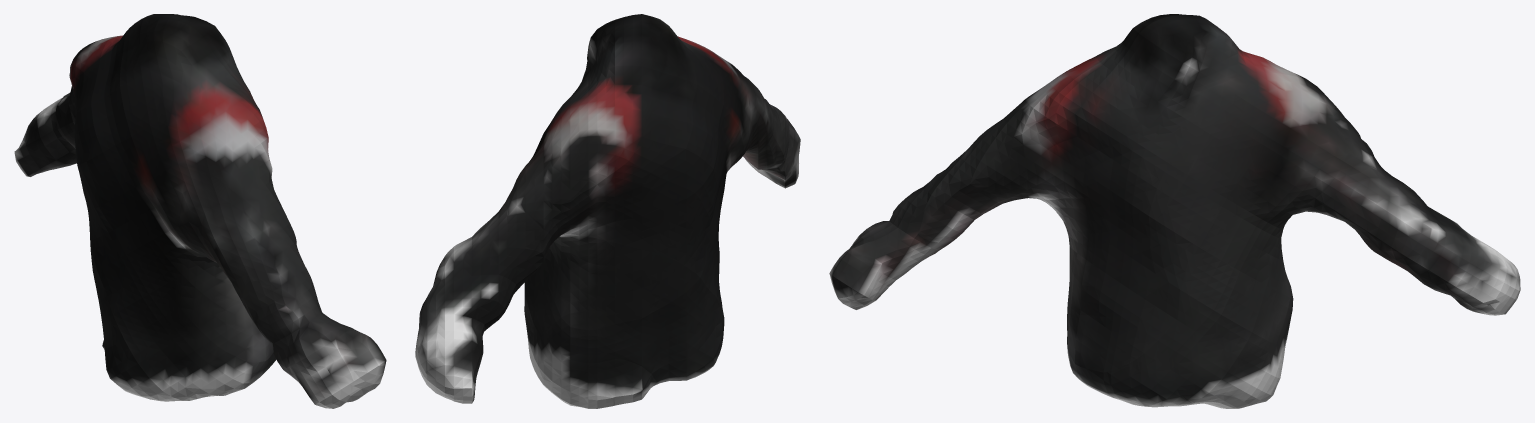
File: clothours.glb
The picture shows the model from 3 angles, left to right: view 1: azimuth 30°, elevation 25°; view 2: azimuth 150°, elevation 25°; view 3: azimuth 270°, elevation 25°; orthographic projection. The views are drawn at different scales.
Visible parts, largest first — view 1: cloth2mesh; view 2: cloth2mesh; view 3: cloth2mesh.
Boxes of the visible parts, x1,y1,x2,y2 form: cloth2mesh: (14,14,386,408); cloth2mesh: (415,14,800,408); cloth2mesh: (829,14,1520,408).
Bounding box in the file's own units: 0.2545 × 0.4986 × 0.8366.
